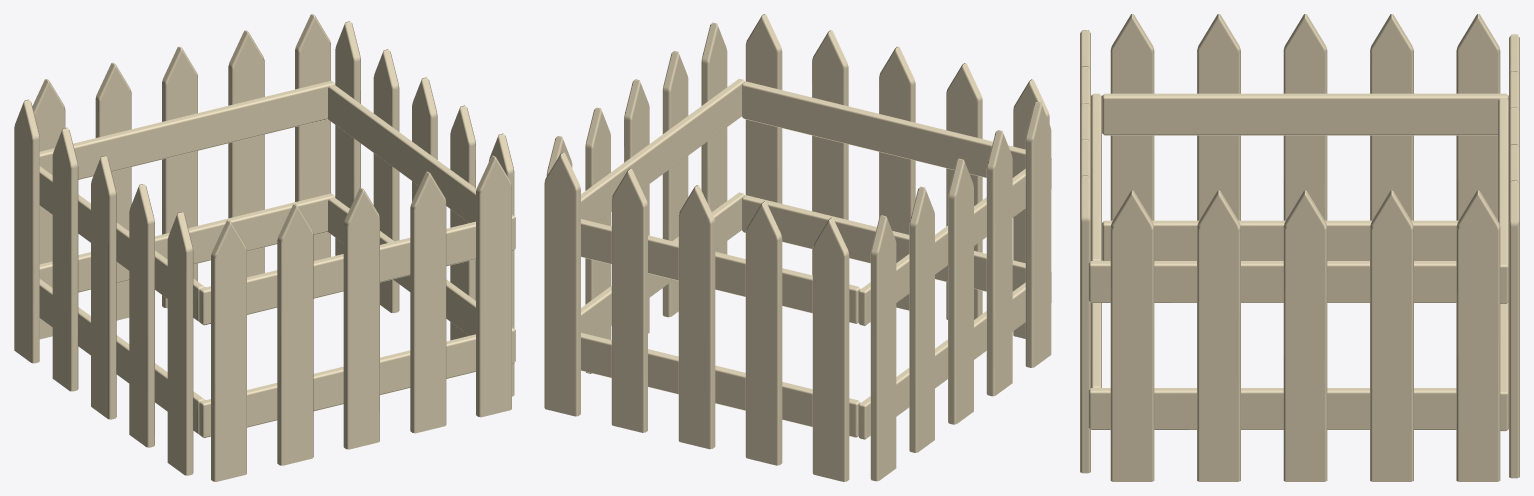
File: sharp-fence-2.glb
3 views of the same model, side by side, from view 1: azimuth 30°, elevation 25°; view 2: azimuth 150°, elevation 25°; view 3: azimuth 270°, elevation 25° (orthographic). The views are drawn at different scales.
Parts seen in each view (by area): view 1: Sharp_Fence; view 2: Sharp_Fence; view 3: Sharp_Fence.
Boxes of the visible parts, x1,y1,x2,y2 form: Sharp_Fence: (14,14,515,481); Sharp_Fence: (544,14,1051,481); Sharp_Fence: (1080,14,1519,481).
Size of the model in its own units: 1.63 by 1.21 by 1.68.
Materials: 1 (1 with a texture image).
